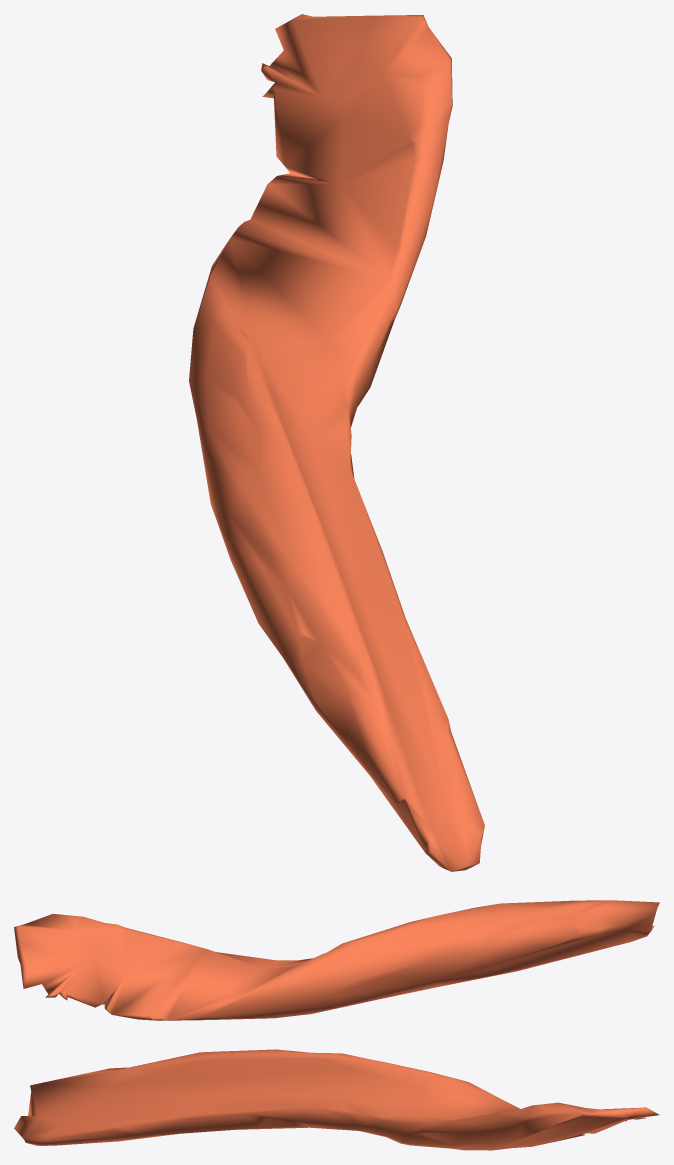
The model's file is Opponens_digiti_minimi_foot_right.glb.
3 views of the same model, one above another, from view 1: azimuth 30°, elevation 25°; view 2: azimuth 150°, elevation 25°; view 3: azimuth 270°, elevation 25° (orthographic). The views are drawn at different scales.
Visible parts, largest first — view 1: Opponens_digiti_minimi_of_foot.r_Generated_Mesh_From_X3D.318; view 2: Opponens_digiti_minimi_of_foot.r_Generated_Mesh_From_X3D.318; view 3: Opponens_digiti_minimi_of_foot.r_Generated_Mesh_From_X3D.318.
Boxes of the visible parts, bbox=[...] form: Opponens_digiti_minimi_of_foot.r_Generated_Mesh_From_X3D.318: bbox=[189, 14, 484, 871]; Opponens_digiti_minimi_of_foot.r_Generated_Mesh_From_X3D.318: bbox=[14, 900, 659, 1020]; Opponens_digiti_minimi_of_foot.r_Generated_Mesh_From_X3D.318: bbox=[14, 1049, 659, 1150].
Size of the model in its own units: 0.0226 by 0.0116 by 0.0433.
